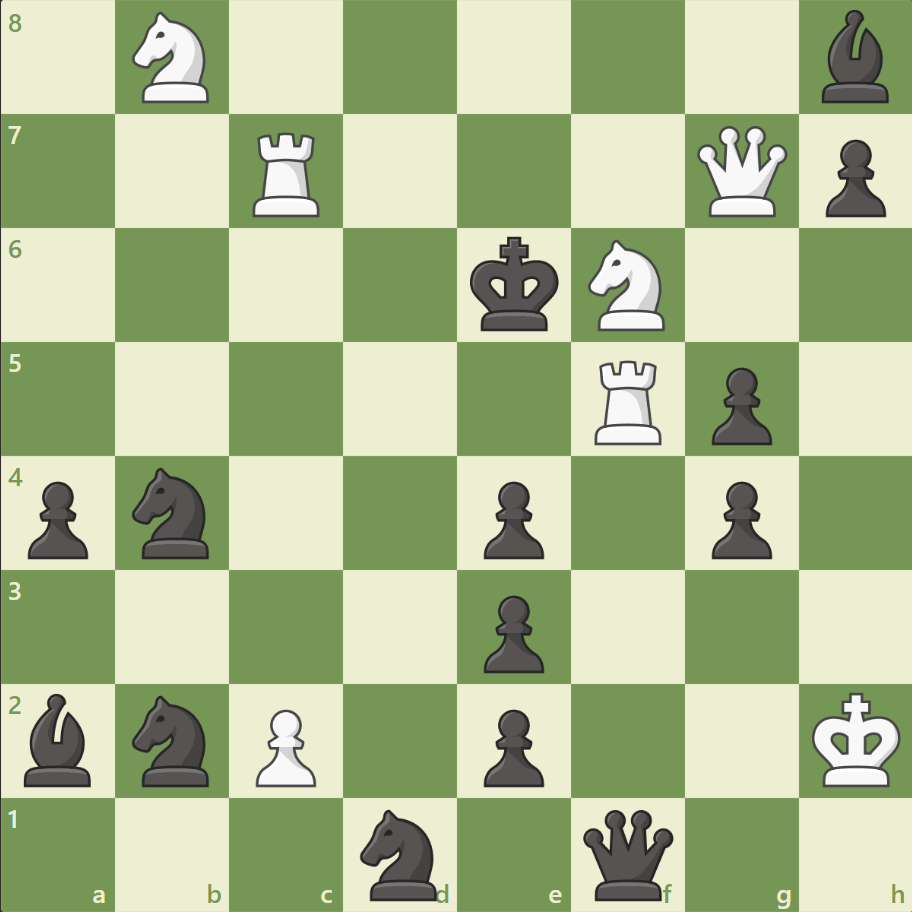K: (806, 685, 906, 793)
N: (124, 7, 222, 110), (579, 234, 676, 337)
P: (247, 700, 322, 791)
Q: (691, 122, 790, 222)
R: (246, 125, 329, 222), (587, 352, 670, 449)
b: (812, 6, 896, 109), (17, 687, 101, 790)
k: (465, 231, 565, 339)
n: (124, 461, 222, 564), (124, 688, 222, 791), (351, 802, 449, 904)
p: (701, 359, 776, 450), (20, 473, 95, 564), (474, 473, 549, 564), (701, 473, 776, 564), (474, 586, 549, 677), (474, 700, 549, 791), (815, 132, 889, 223)
q: (578, 804, 677, 903)
